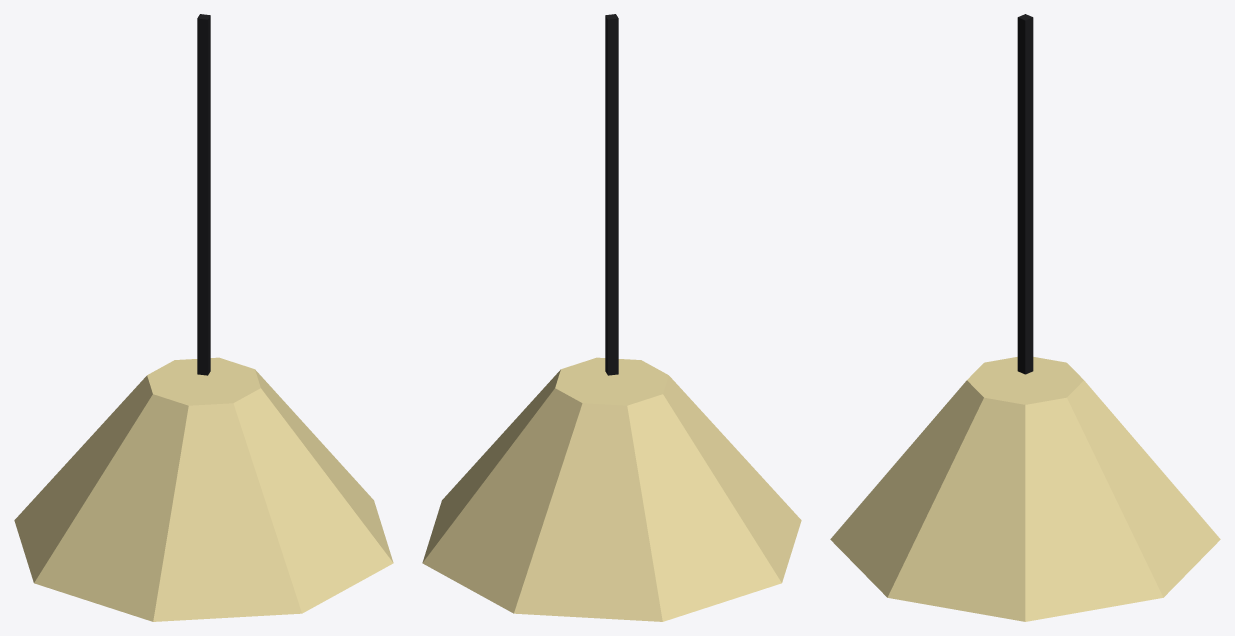
Rendered from GD_CeilingShade_01.glb.
The picture shows the model from 3 angles, left to right: view 1: azimuth 30°, elevation 25°; view 2: azimuth 150°, elevation 25°; view 3: azimuth 270°, elevation 25°; orthographic projection.
Visible parts, largest first — view 1: GD_CeilingShade_01; view 2: GD_CeilingShade_01; view 3: GD_CeilingShade_01.
Part boxes in pixels (left/top/right/bottom): GD_CeilingShade_01: left=14, top=14, right=393, bottom=621; GD_CeilingShade_01: left=422, top=14, right=801, bottom=621; GD_CeilingShade_01: left=830, top=14, right=1220, bottom=621.
Size of the model in its own units: 0.4 by 0.59 by 0.4.
1 material, 1 textured.
